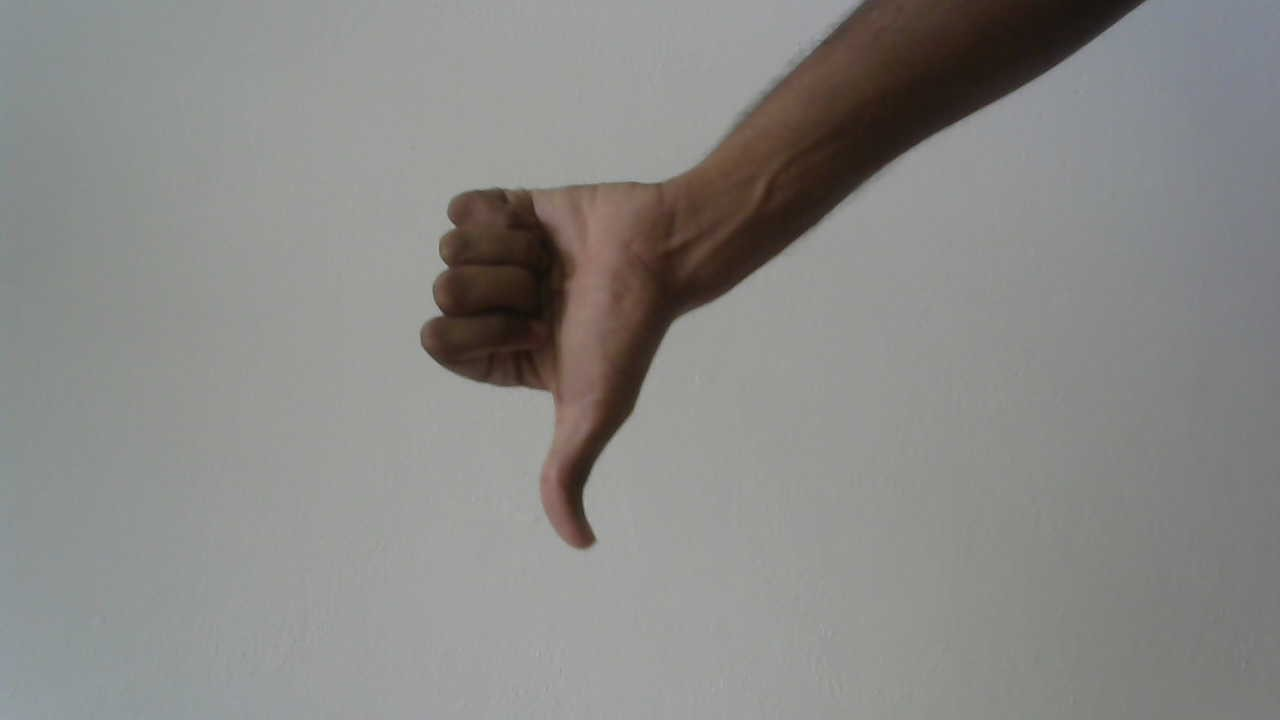thumbsdown: (412, 161, 709, 574)
